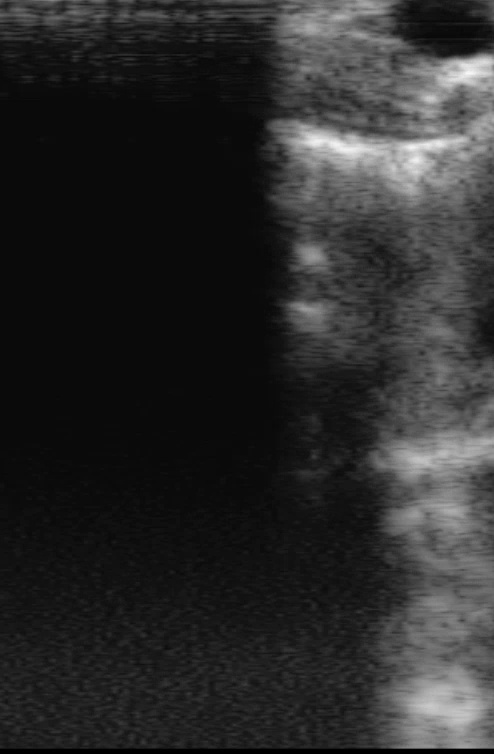veins_detect: (381, 2, 494, 66)
veins_seg: (393, 1, 493, 58)
